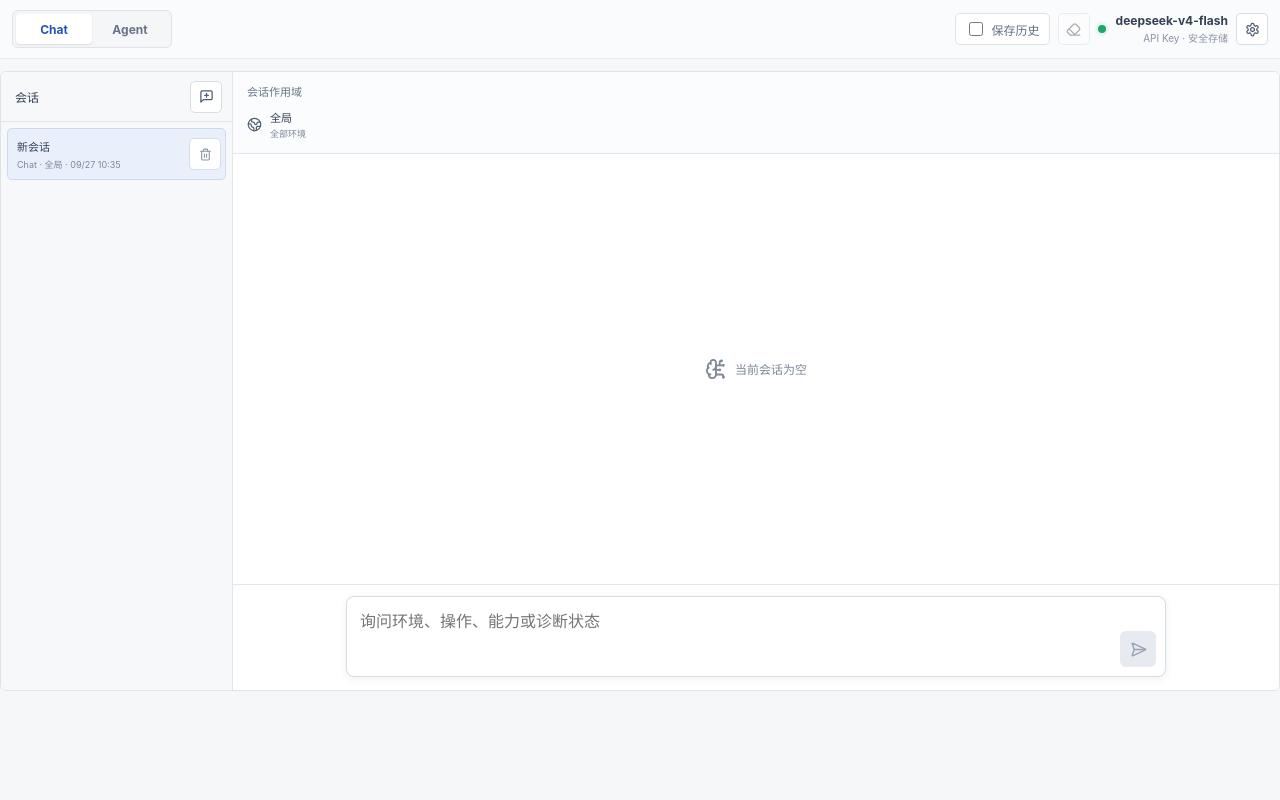
Test: AiPage › executes a reviewed Agent plan and keeps it in conversation history
Click the button "Agent". click: (130, 29)
box: [92, 14, 168, 44]
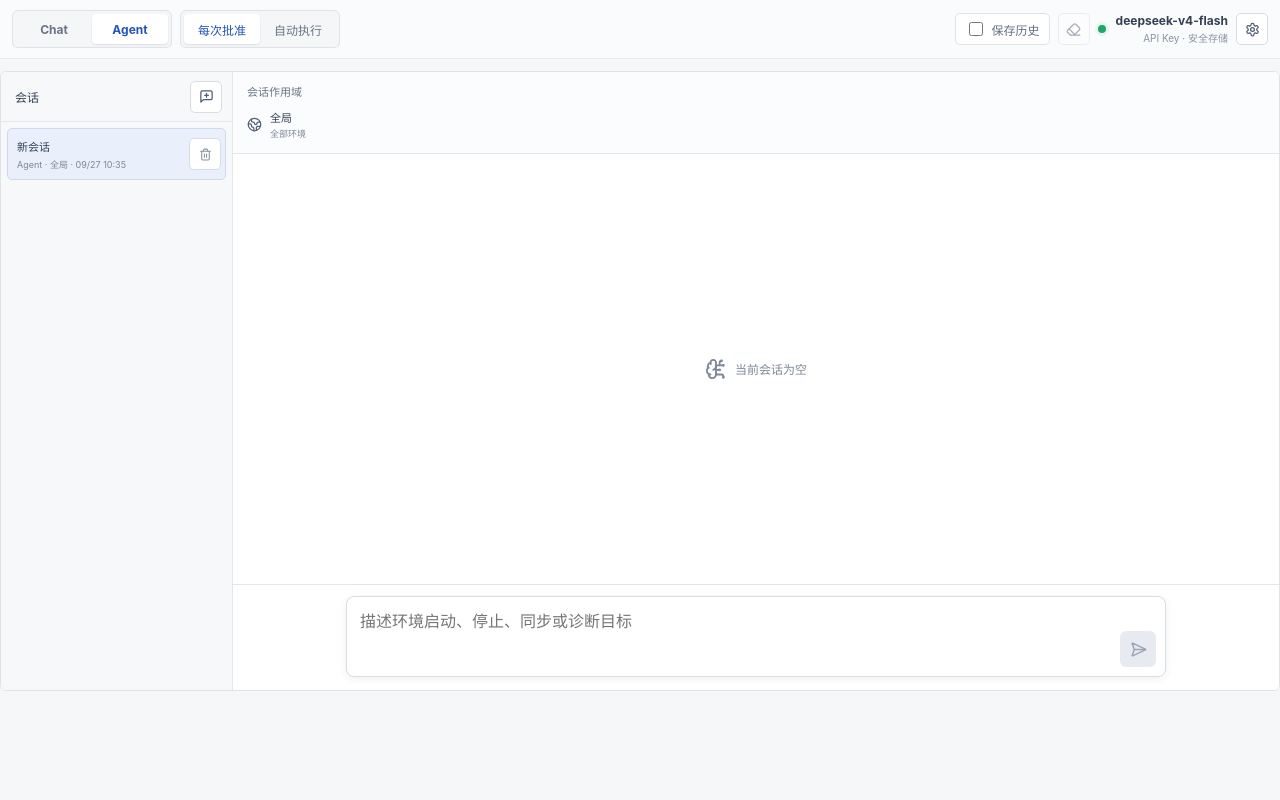
Type "启动环境 2044366881367789568" into the text box named "AI 请求". click: (756, 634)
box: [347, 597, 1165, 672]
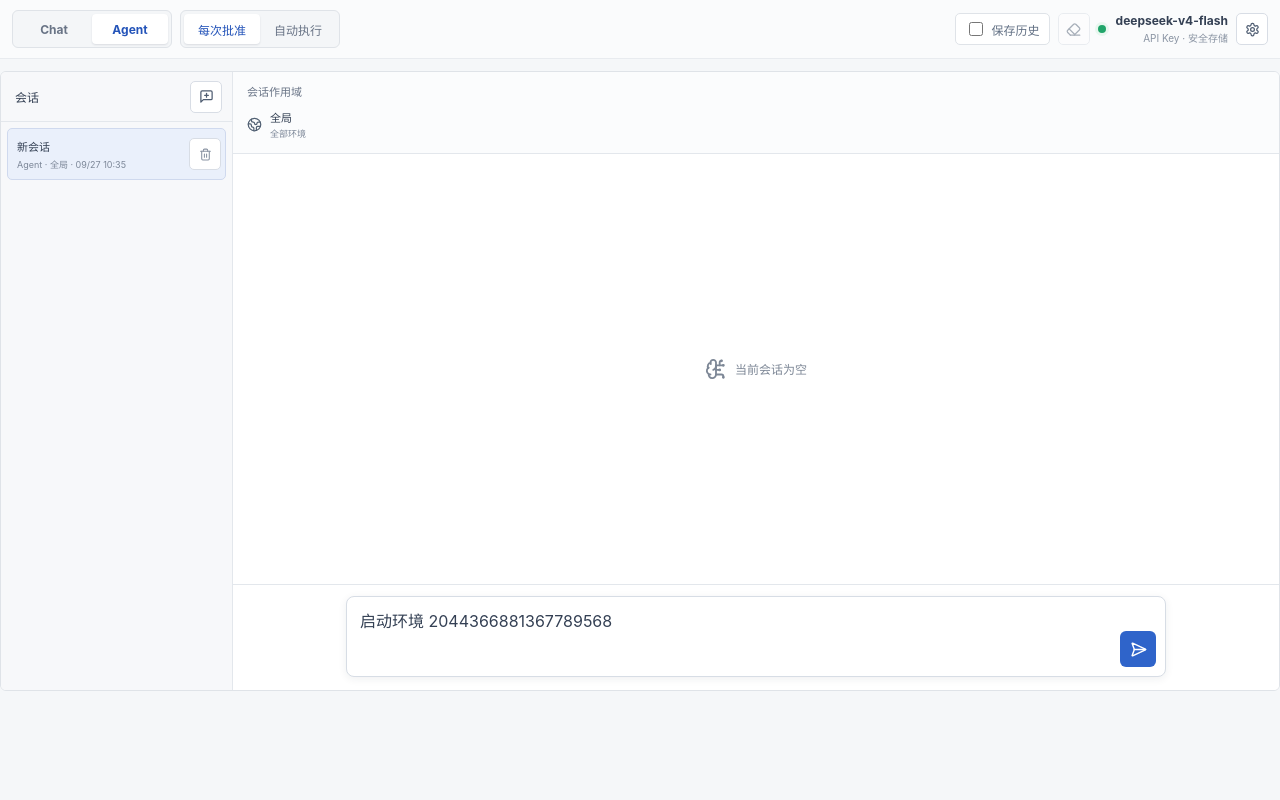
Click the button named "生成计划". click: (1138, 649)
box: [1120, 631, 1156, 667]
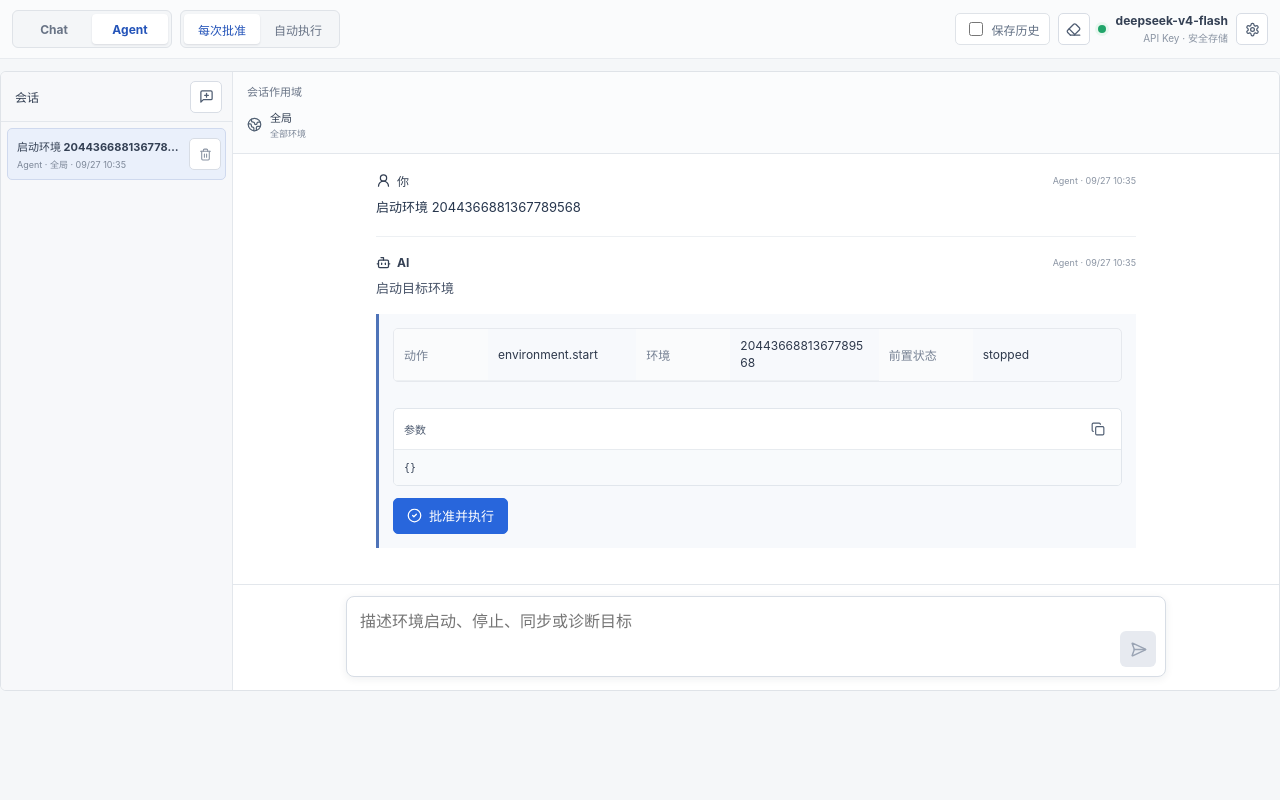
Now the text "启动目标环境" is shown, box [376, 280, 454, 296]
Click the button "批准并执行". click: (450, 516)
box: [393, 498, 508, 534]
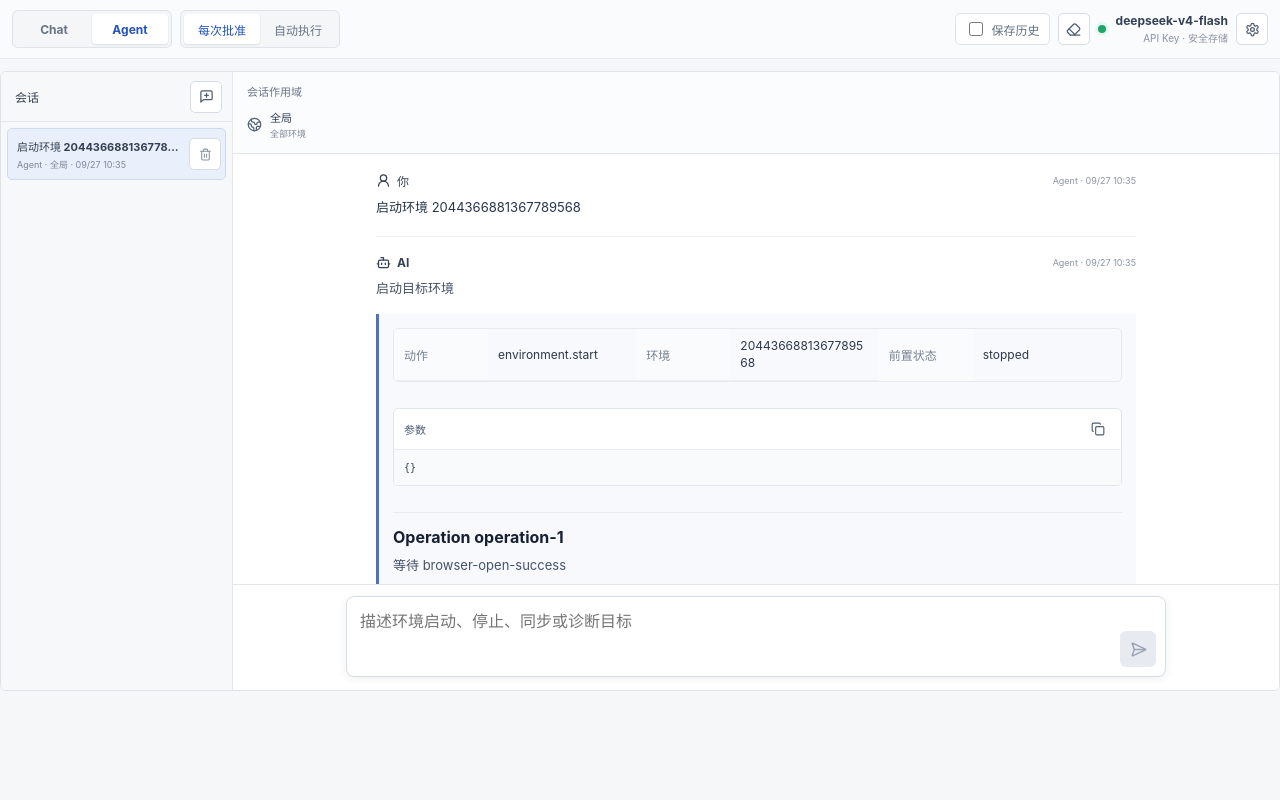
Now the text "Operation operation-1" is shown, box [393, 527, 564, 547]
Now the button "批准并执行" is gone
